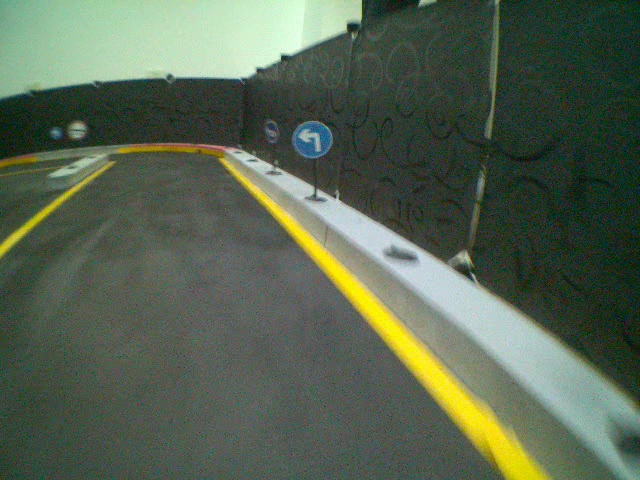Check: (67, 119, 91, 142)
horn: (264, 117, 282, 146)
turn: (293, 121, 337, 161)
